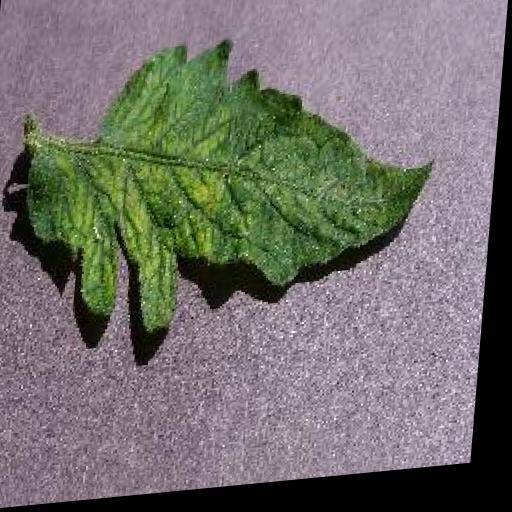Mosaic Virus: (17, 27, 450, 343)
